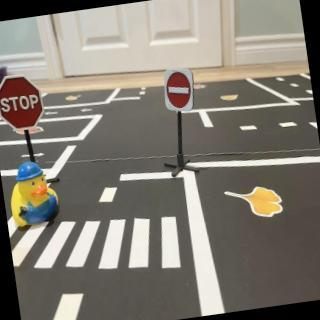duck_specialty: (6, 160, 63, 231)
road_crosswalk: (8, 191, 187, 294)
road_oneway: (78, 104, 97, 115), (43, 110, 64, 117)
sign_noentry: (161, 67, 199, 116)
sign_stop: (1, 72, 46, 131)
